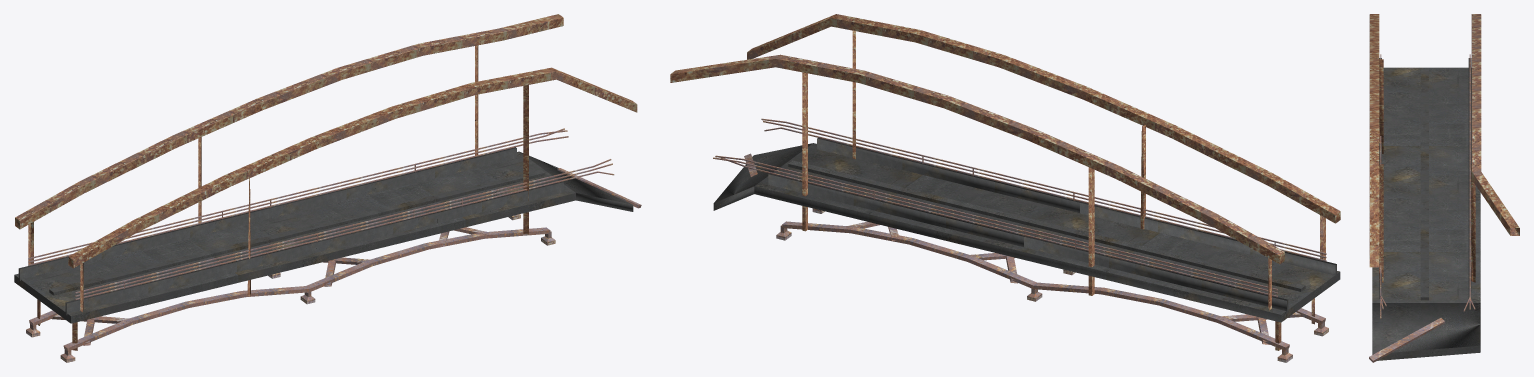
The model's file is bridge.FBX.
The picture shows the model from 3 angles, left to right: view 1: azimuth 30°, elevation 25°; view 2: azimuth 150°, elevation 25°; view 3: azimuth 270°, elevation 25°; orthographic projection. The views are drawn at different scales.
Parts seen in each view (by area): view 1: L2_Box433, L2_b, L2_Box650; view 2: L2_Box433, L2_b, L2_Box650; view 3: L2_Box433, L2_b, L2_Box650.
Boxes of the visible parts, left/top/right/bottom form: L2_Box433: left=14, top=147, right=633, bottom=323; L2_b: left=15, top=14, right=637, bottom=350; L2_Box650: left=26, top=128, right=641, bottom=362; L2_Box433: left=713, top=138, right=1340, bottom=322; L2_b: left=670, top=14, right=1340, bottom=350; L2_Box650: left=713, top=118, right=1328, bottom=362; L2_Box433: left=1372, top=58, right=1480, bottom=360; L2_b: left=1369, top=14, right=1519, bottom=282; L2_Box650: left=1369, top=54, right=1475, bottom=362.
Bounding box in the file's own units: 149 × 46.25 × 35.77.
3 materials, 3 textured.
